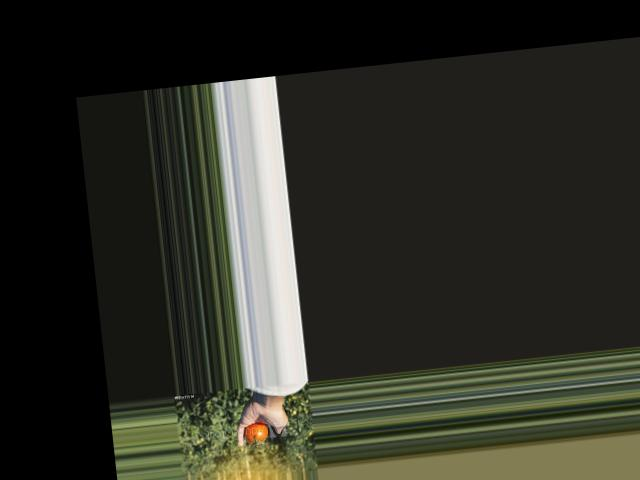tomato: (242, 422, 268, 445)
